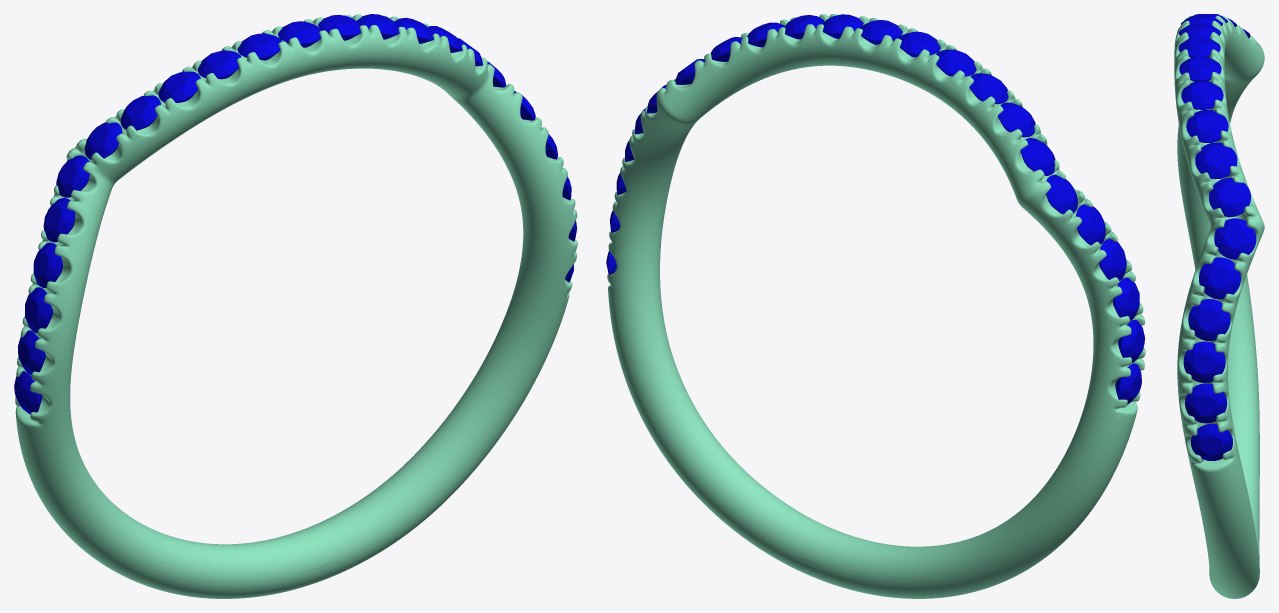
3 renders of one model, left to right at view 1: azimuth 30°, elevation 25°; view 2: azimuth 150°, elevation 25°; view 3: azimuth 270°, elevation 25°, orthographic. The views are drawn at different scales.
Parts seen in each view (by area): view 1: Metal03, Diamond_Band.017, Diamond_Band, Diamond_Band.012, Diamond_Band.018, Diamond_Band.016, Diamond_Band.019, Diamond_Band.020, Diamond_Band.015, Diamond_Band.014, Diamond_Band.021, Diamond_Band.013 (+1 smaller); view 2: Metal03, Diamond_Band, Diamond_Band.012, Diamond_Band.018, Diamond_Band.017, Diamond_Band.019, Diamond_Band.016, Diamond_Band.015, Diamond_Band.020, Diamond_Band.014, Diamond_Band.021, Diamond_Band.013 (+1 smaller); view 3: Metal03, Diamond_Band.007, Diamond_Band.006, Diamond_Band.005, Diamond_Band.002, Diamond_Band.004, Diamond_Band.001, Diamond_Band.008, Diamond_Band.003, Diamond_Band.009, Diamond_Band.010, Diamond_Band.011 (+3 smaller).
Boxes of the visible parts, left/top/right/bottom form: Metal03: left=15, top=14, right=577, bottom=598; Diamond_Band.017: left=120, top=95, right=160, bottom=130; Diamond_Band: left=56, top=155, right=89, bottom=197; Diamond_Band.012: left=84, top=122, right=122, bottom=160; Diamond_Band.018: left=43, top=198, right=75, bottom=242; Diamond_Band.016: left=158, top=71, right=200, bottom=102; Diamond_Band.019: left=33, top=242, right=62, bottom=287; Diamond_Band.020: left=25, top=287, right=52, bottom=333; Diamond_Band.015: left=197, top=50, right=241, bottom=79; Diamond_Band.014: left=237, top=33, right=282, bottom=60; Diamond_Band.021: left=18, top=330, right=45, bottom=375; Diamond_Band.013: left=278, top=21, right=322, bottom=47; Metal03: left=607, top=14, right=1145, bottom=598; Diamond_Band: left=1046, top=174, right=1077, bottom=214; Diamond_Band.012: left=1020, top=138, right=1055, bottom=175; Diamond_Band.018: left=1076, top=204, right=1105, bottom=245; Diamond_Band.017: left=998, top=102, right=1035, bottom=137; Diamond_Band.019: left=1099, top=238, right=1126, bottom=280; Diamond_Band.016: left=969, top=73, right=1008, bottom=104; Diamond_Band.015: left=936, top=49, right=976, bottom=76; Diamond_Band.020: left=1113, top=277, right=1139, bottom=320; Diamond_Band.014: left=898, top=31, right=940, bottom=57; Diamond_Band.021: left=1118, top=320, right=1144, bottom=362; Diamond_Band.013: left=860, top=20, right=902, bottom=44; Metal03: left=1174, top=15, right=1264, bottom=598; Diamond_Band.007: left=1199, top=257, right=1240, bottom=299; Diamond_Band.006: left=1188, top=299, right=1230, bottom=340; Diamond_Band.005: left=1183, top=341, right=1225, bottom=382; Diamond_Band.002: left=1214, top=218, right=1256, bottom=259; Diamond_Band.004: left=1185, top=383, right=1227, bottom=423; Diamond_Band.001: left=1209, top=177, right=1250, bottom=217; Diamond_Band.008: left=1195, top=142, right=1237, bottom=179; Diamond_Band.003: left=1191, top=424, right=1232, bottom=460; Diamond_Band.009: left=1186, top=110, right=1228, bottom=142; Diamond_Band.010: left=1181, top=81, right=1223, bottom=109; Diamond_Band.011: left=1179, top=56, right=1221, bottom=81.
Bounding box in the file's own units: 20.71 × 20.8 × 3.21.
